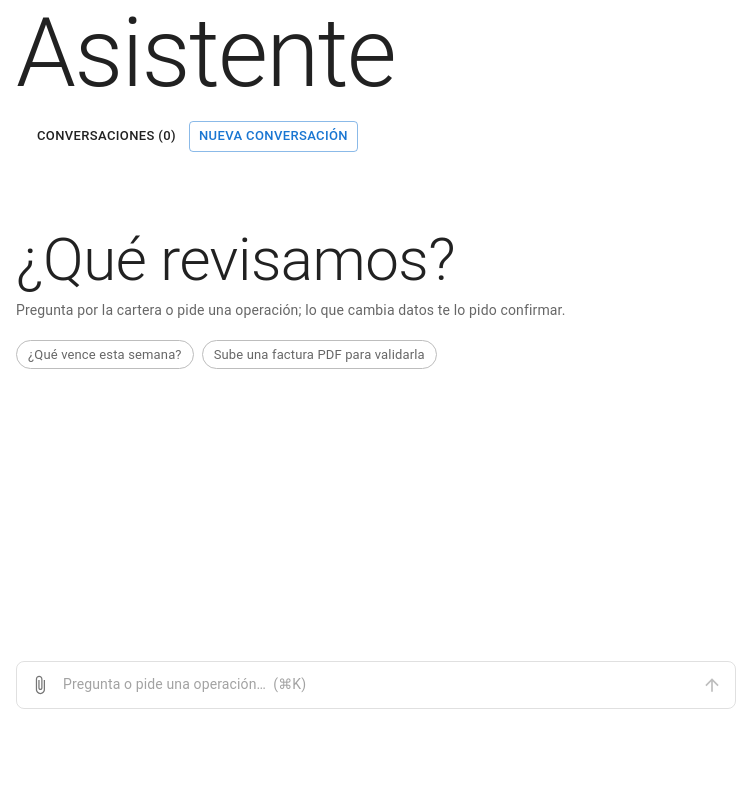
AssistantPage › AC-010-07 una lectura es una fila de estado y listPayables se dibuja como mini tabla
Type "¿Qué vence?" into the text box named "Mensaje" at (376, 685), box [63,674,689,696]
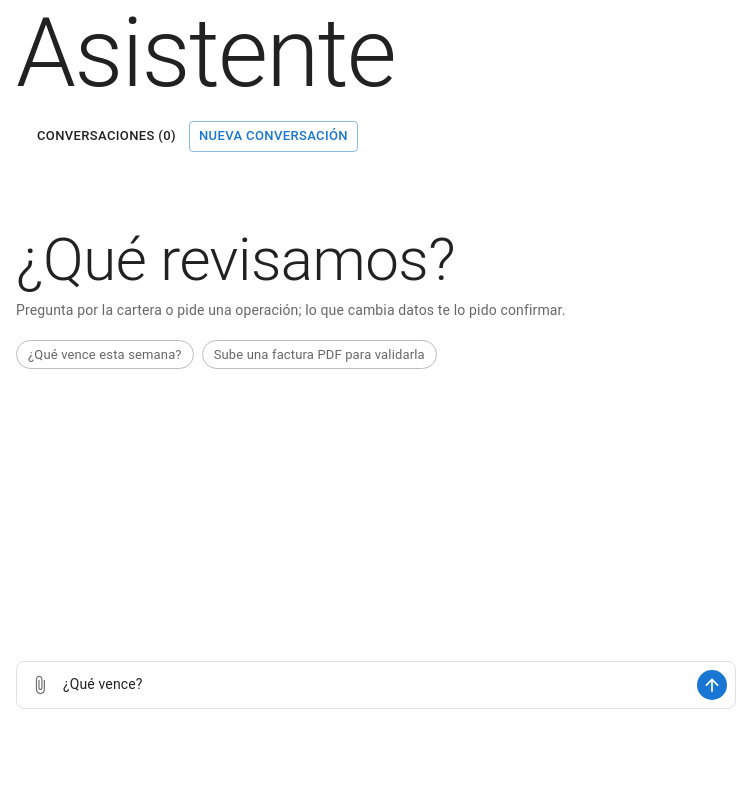
Click the button named "Enviar" at (712, 685), box [697,670,727,700]
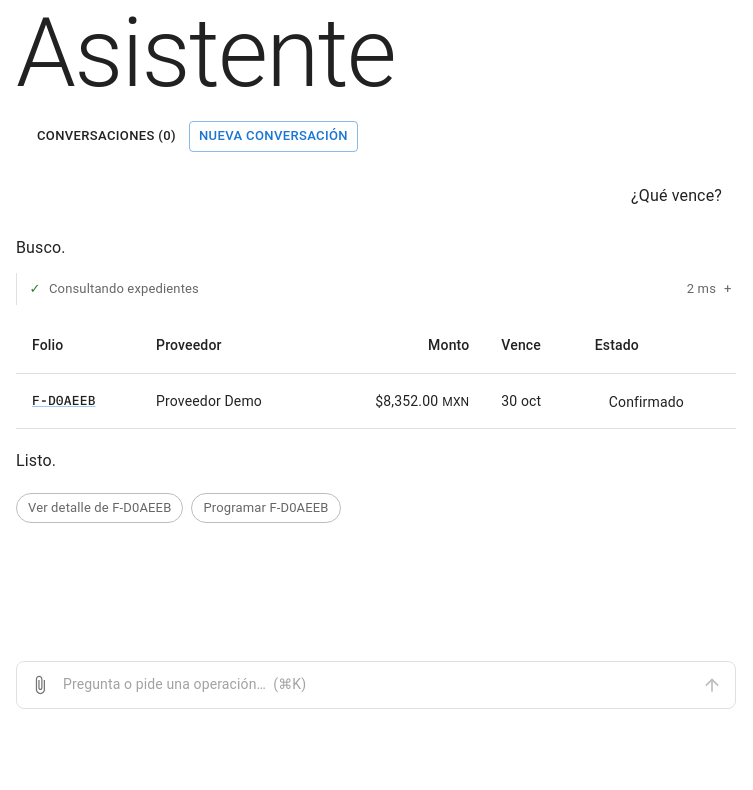
Check: the text "Listo." is shown, box [16,451,56,470]
Check: the button "✓ Consultando expedientes 2 ms +" is shown
Check: the table named "Expedientes encontrados" shows "30 oct", box [501,393,541,409]
Click the button "✓ Consultando expedientes 2 ms +" at (124, 288), box [29,275,736,303]
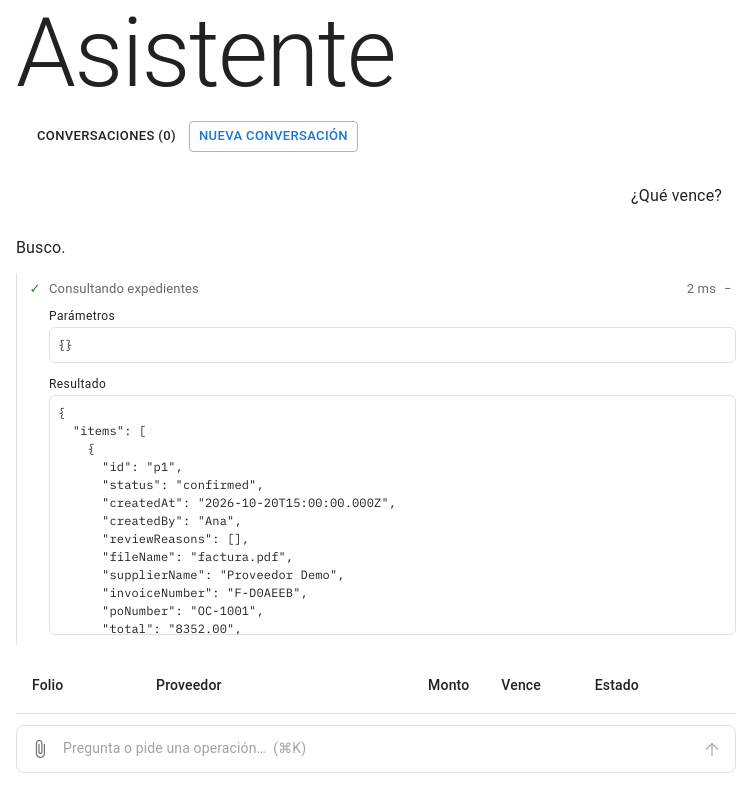
Check: the text "\"invoiceNumber\": \"F-D0AEEB\"" is shown, box [58,405,396,643]
